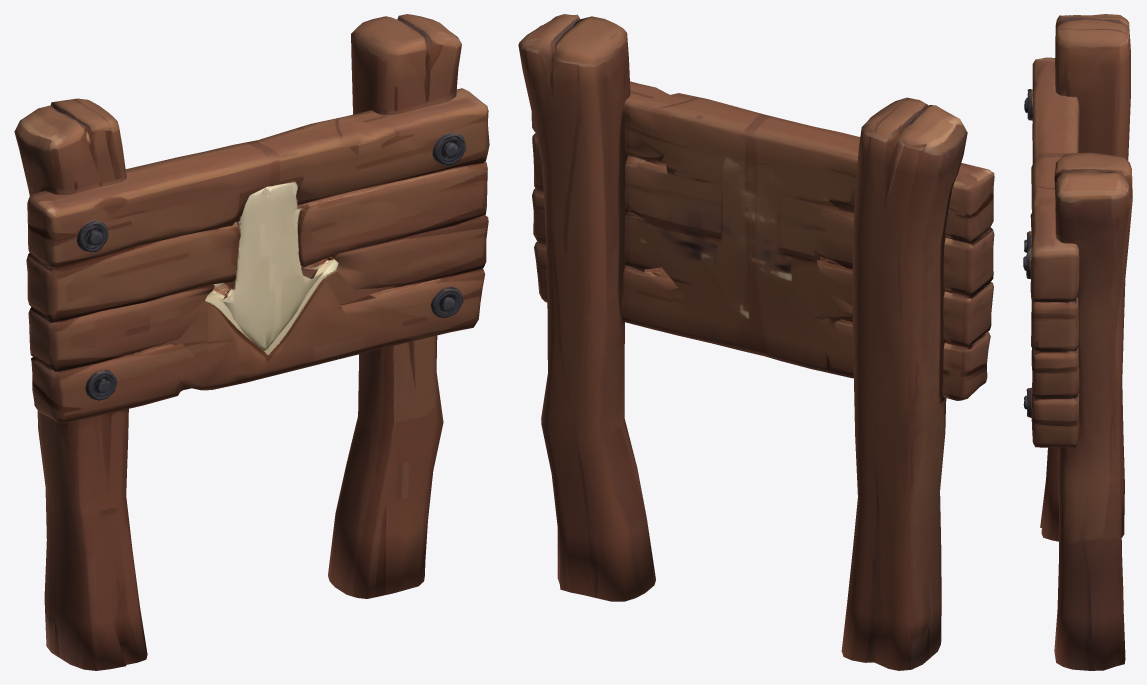
The model's file is cartel_mar_abajo.glb.
3 renders of one model, left to right at view 1: azimuth 30°, elevation 25°; view 2: azimuth 150°, elevation 25°; view 3: azimuth 270°, elevation 25°, orthographic. The views are drawn at different scales.
Size of the model in its own units: 0.8516 by 1 by 0.1992.
1 material, 1 textured.
